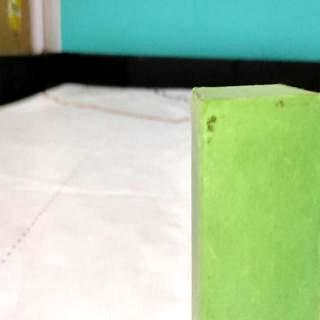greenbox: (193, 83, 320, 320)
